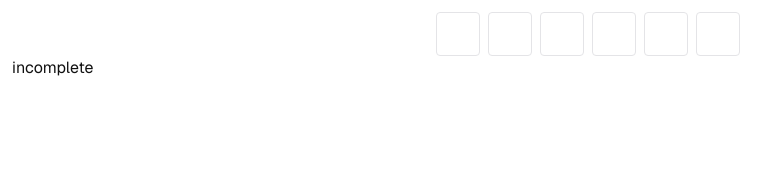
it: a code with a gap in it › is offered once every box holds a digit, whatever order they were filled in
Type "6" into the field named "Digit 6" at (718, 34), box [696,12,740,56]
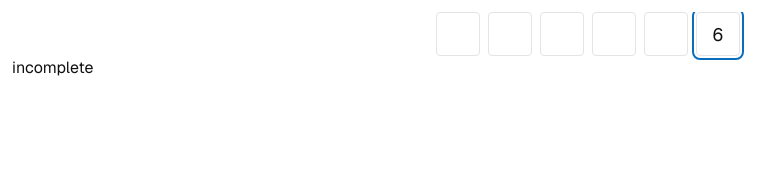
Type "1" into the field named "Digit 1" at (458, 34), box [436,12,480,56]
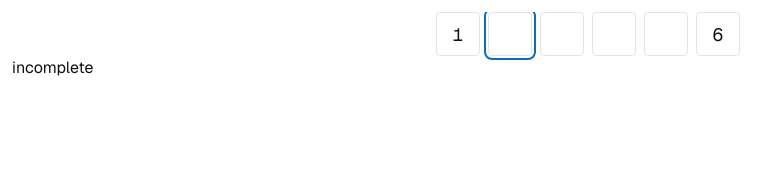
Type "2" into the field named "Digit 2" at (510, 34), box [488,12,532,56]
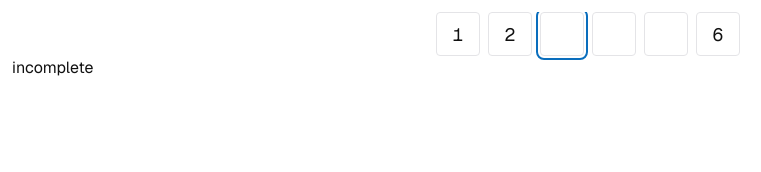
Type "3" into the field named "Digit 3" at (562, 34), box [540,12,584,56]
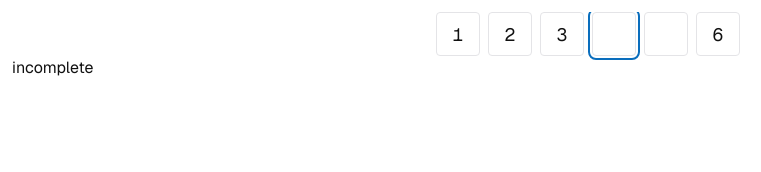
Type "4" into the field named "Digit 4" at (614, 34), box [592,12,636,56]
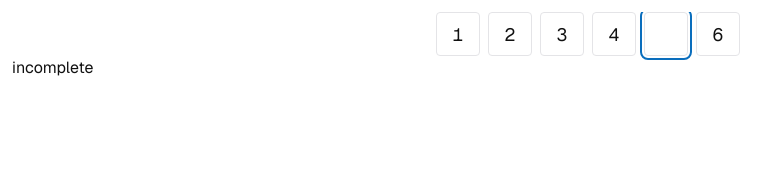
Type "5" into the field named "Digit 5" at (666, 34), box [644,12,688,56]
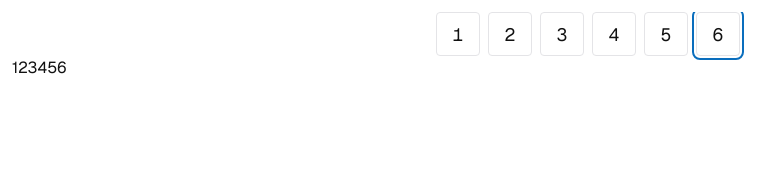
Expected: the text "123456" is shown, [12,57,66,78]
